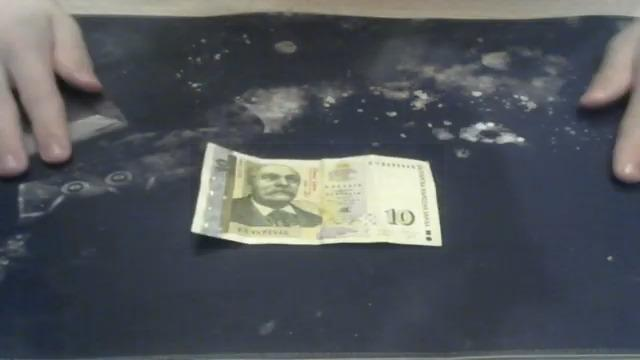10leva: (190, 144, 444, 249)
